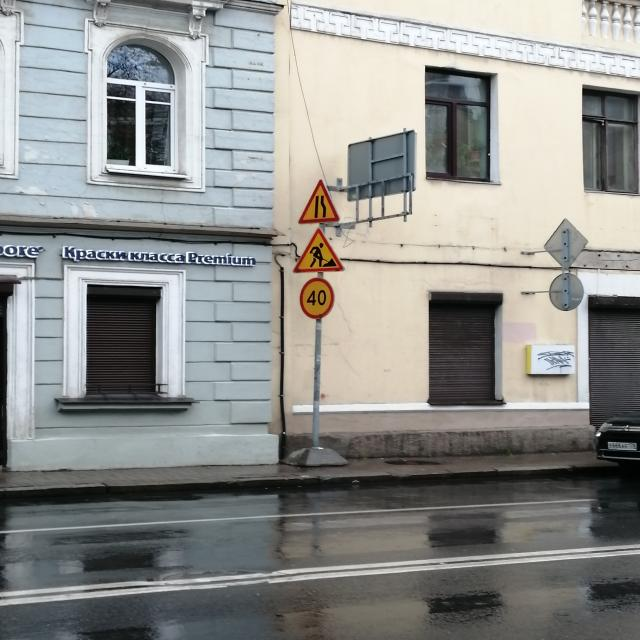road sign: (295, 231, 344, 271), (301, 176, 339, 223), (315, 317, 322, 449)
